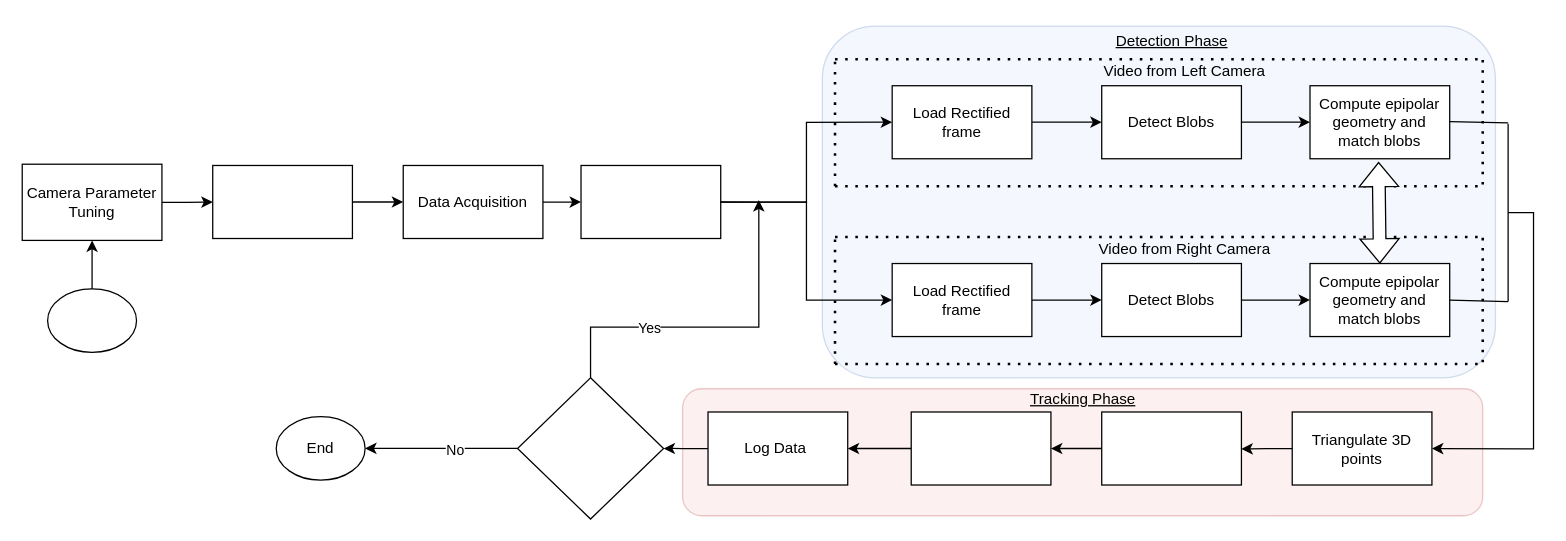
This 1566x541 diagram has some shape labels left out. The centre of each missing label's shape, as x and y in pixels:
Assign ID to matched blobs and Intitialize Tracker: the point at 1170,448
Availability of Subsequent video frame?: the point at 590,448
Camera Focusing and Stereo Calibration: the point at 281,201
Load Calibration Data: the point at 650,201
Start: the point at 91,320
Update Kalman Filter for 2D and 3D Tracker: the point at 980,448
